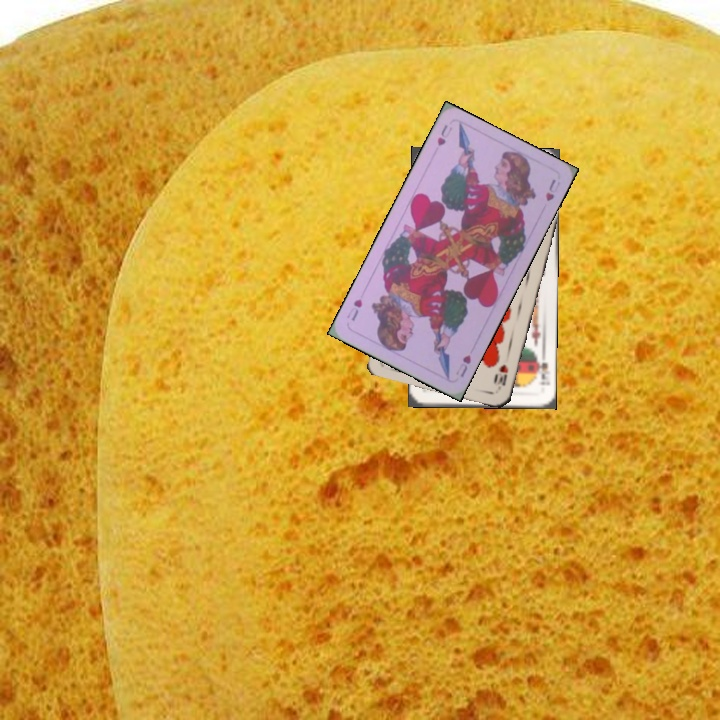H10: (490, 360, 511, 392)
HU: (452, 351, 474, 380), (433, 120, 455, 149)
SK: (532, 352, 552, 388)
